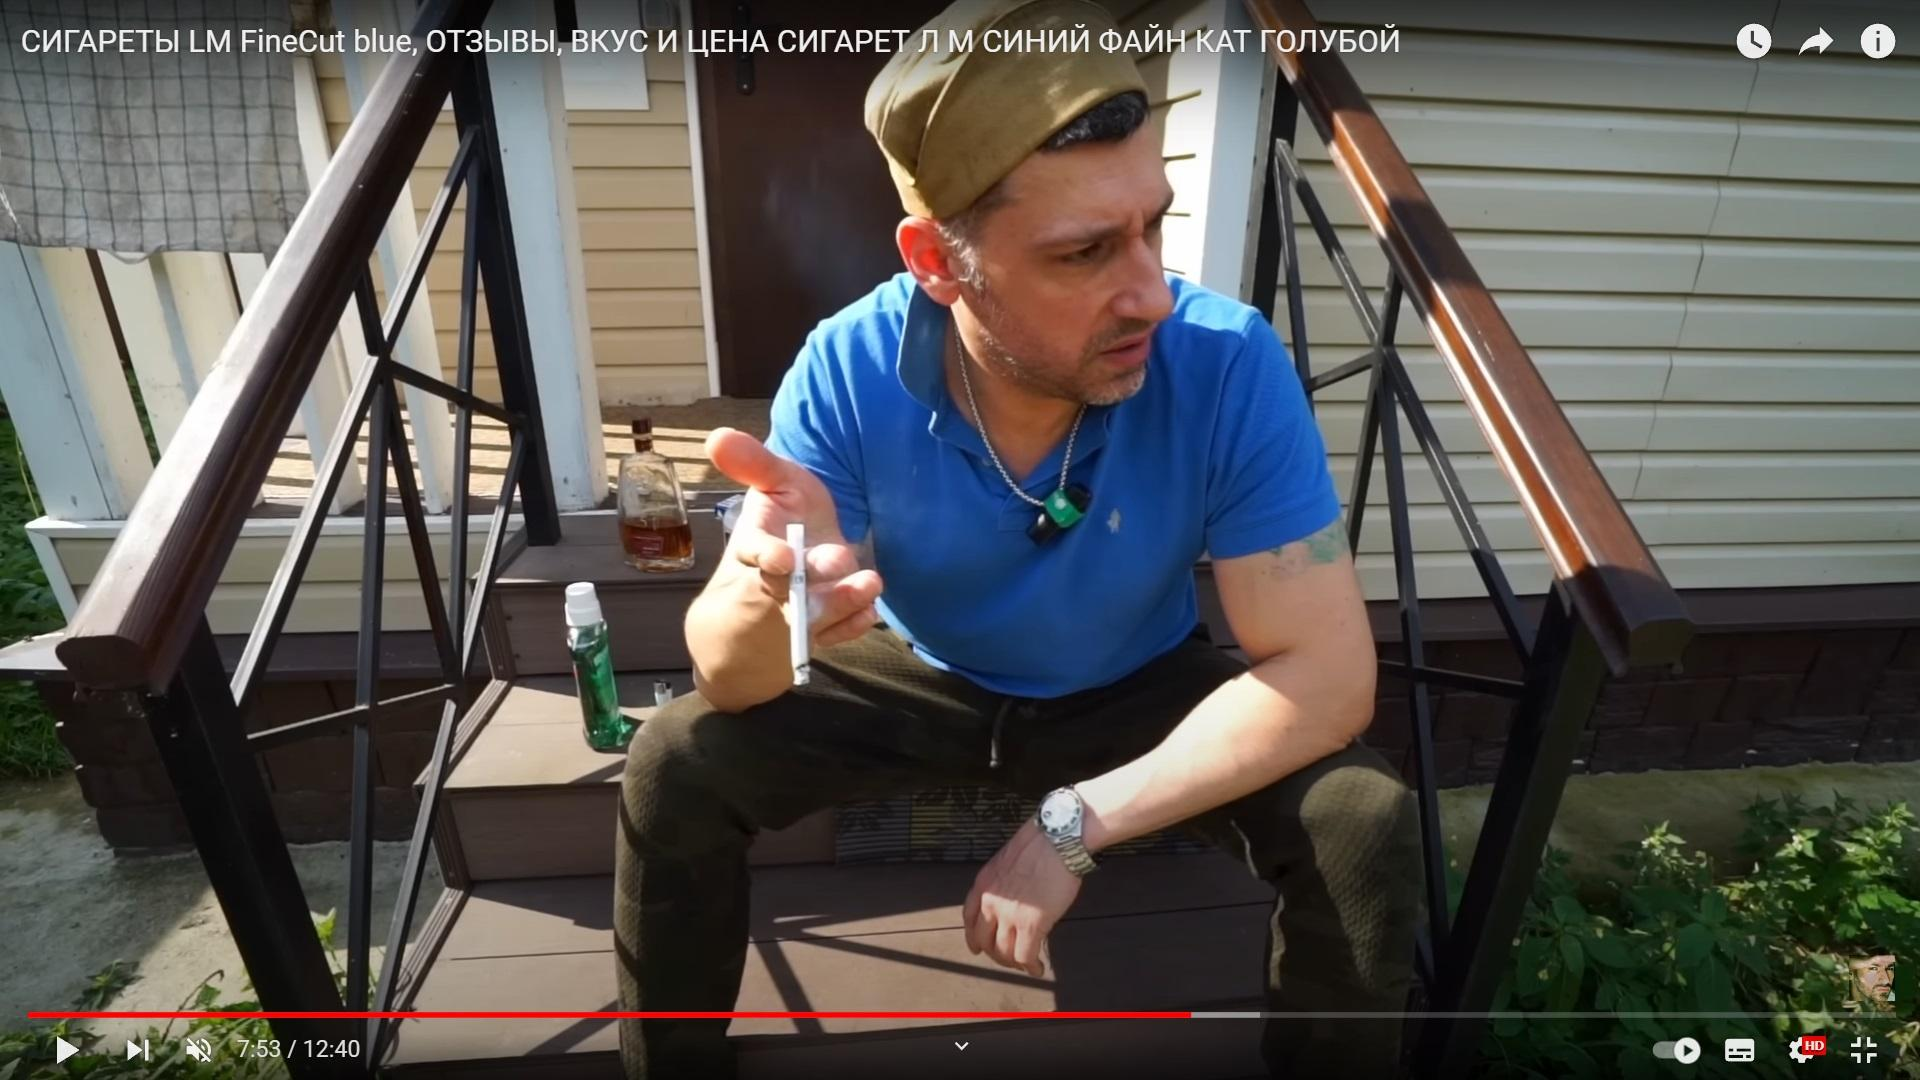cigarette: (787, 521, 810, 684)
